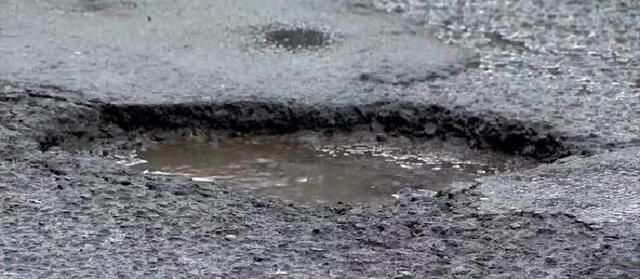Pothole: (31, 95, 598, 213), (256, 20, 336, 53)
